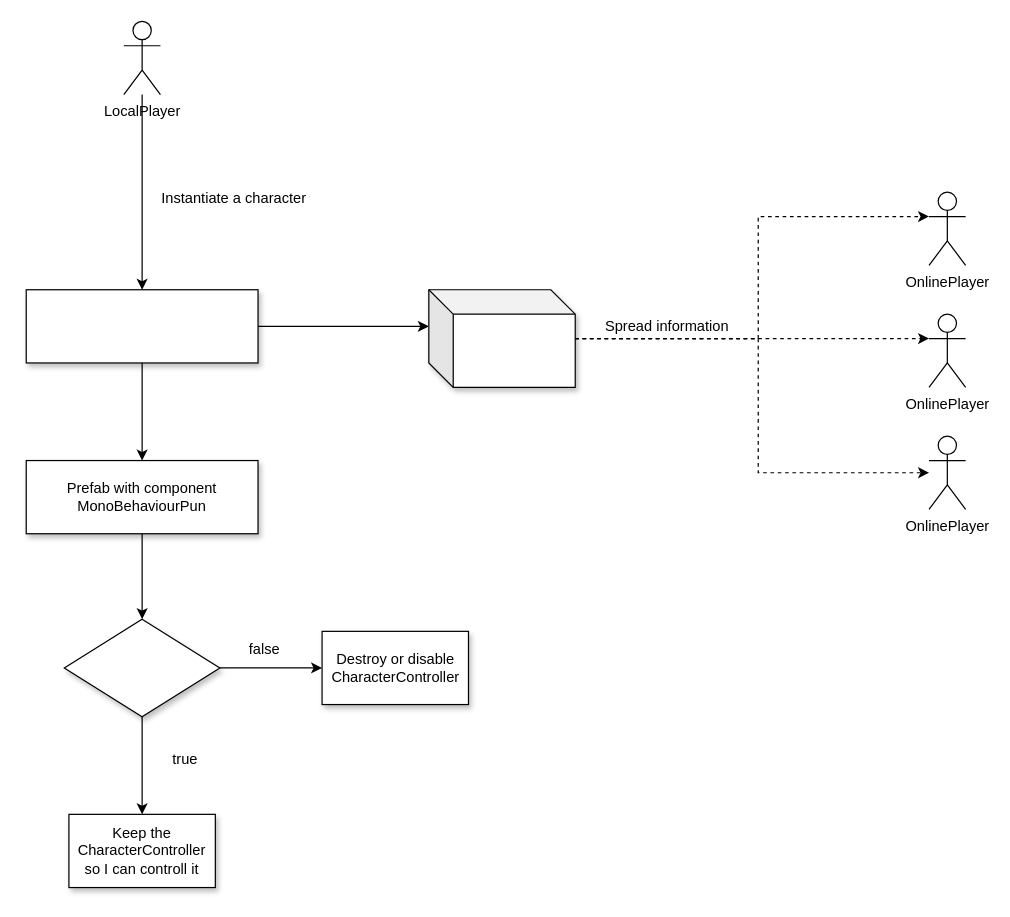
The diagram is 1010 pixels wide and 917 high, and some of its shapes have lost their labels. Here are the shapes that lost their labels. From the top down, the centre of each, then its label:
[142,327]: PhotonNetwork.Instantiate
[503,340]: Server
[142,669]: photonView.IsMine
